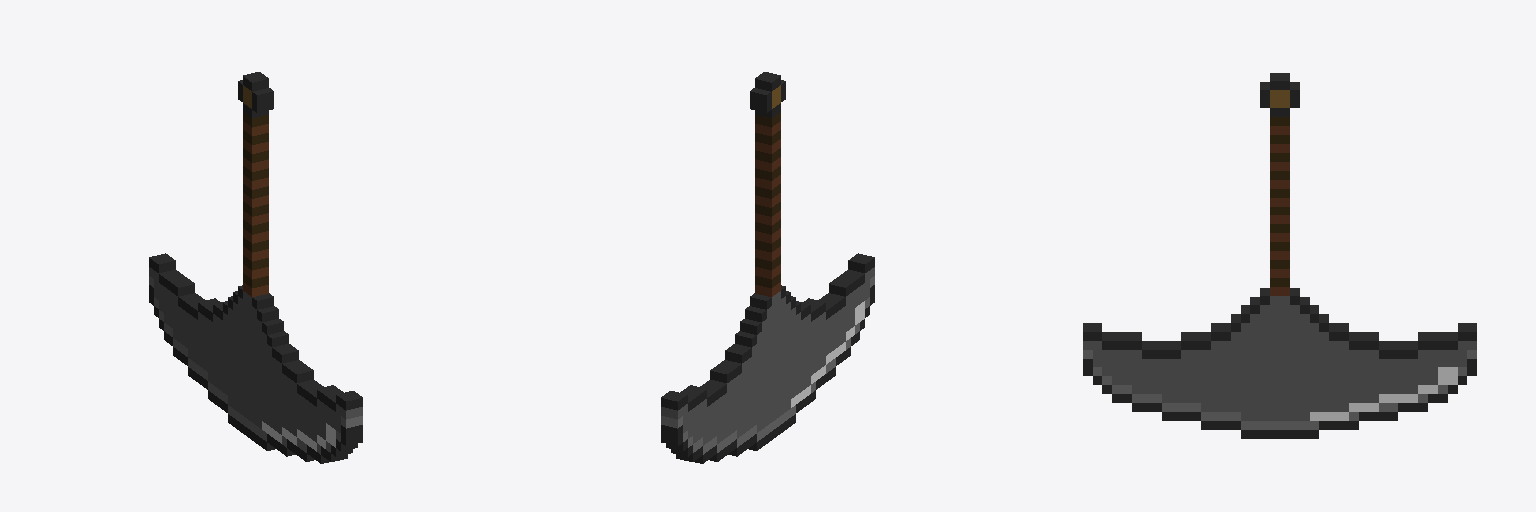
The picture shows the model from 3 angles: view 1: azimuth 30°, elevation 25°; view 2: azimuth 150°, elevation 25°; view 3: azimuth 270°, elevation 25°; orthographic projection.
Parts seen in each view (by area): view 1: object 1; view 2: object 1; view 3: object 1.
Part boxes in pixels (left/top/right/bottom): object 1: left=149, top=72, right=362, bottom=463; object 1: left=661, top=72, right=874, bottom=463; object 1: left=1083, top=73, right=1476, bottom=438.
Bounding box in the file's own units: 0.2 × 4 × 4.
1 materials, 1 textured.